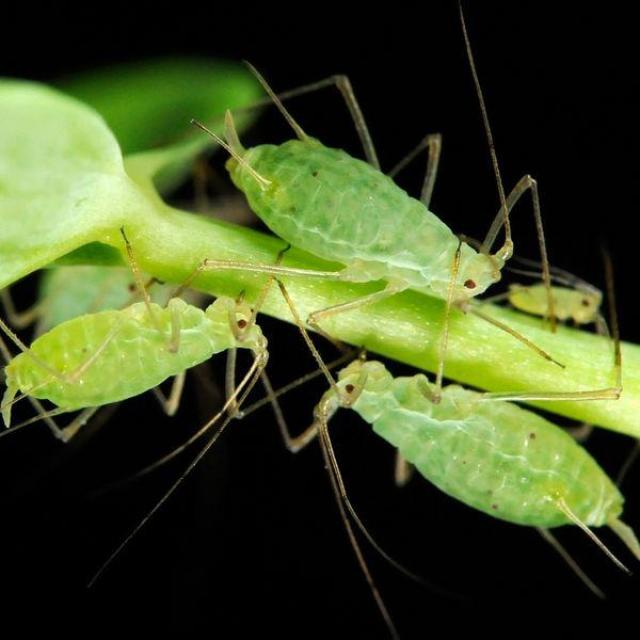Aphids: (205, 84, 572, 365), (265, 336, 640, 589), (11, 251, 277, 438), (498, 261, 616, 326)
